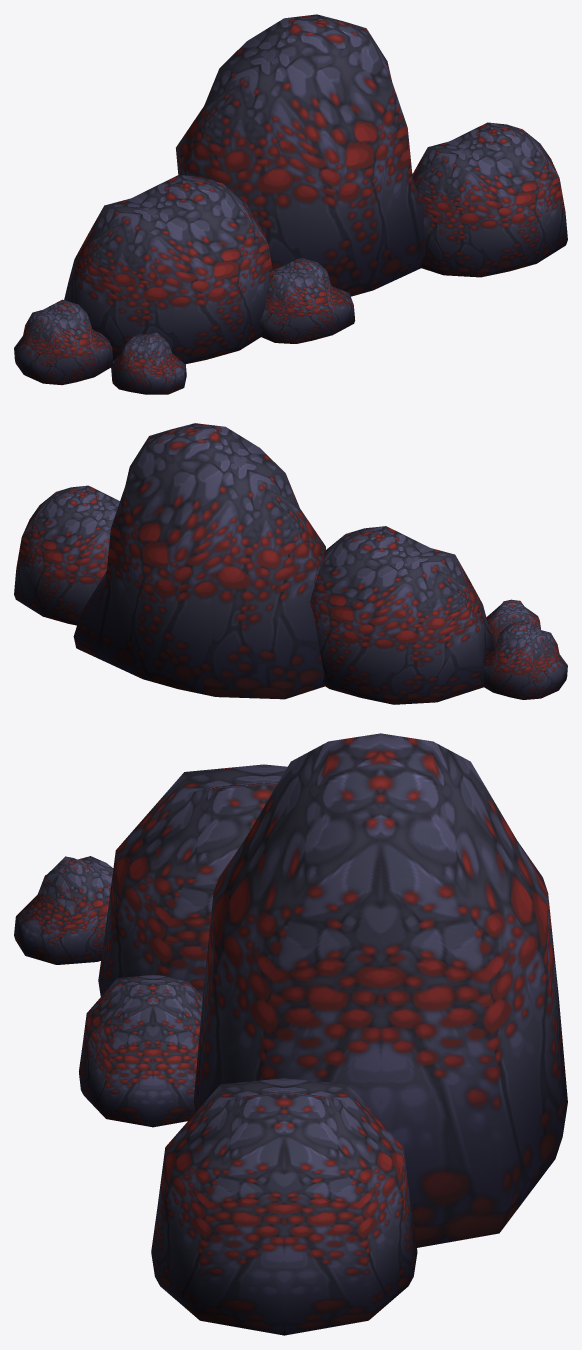
The model's file is Rock_03_Group3.FBX.
The picture shows the model from 3 angles, top to bottom: view 1: azimuth 30°, elevation 25°; view 2: azimuth 150°, elevation 25°; view 3: azimuth 270°, elevation 25°; orthographic projection. The views are drawn at different scales.
Visible parts, largest first — view 1: Rock_03_Group3; view 2: Rock_03_Group3; view 3: Rock_03_Group3.
Boxes of the visible parts, x1,y1,x2,y2 form: Rock_03_Group3: (14, 14, 567, 394); Rock_03_Group3: (14, 423, 567, 704); Rock_03_Group3: (14, 733, 567, 1335).
Size of the model in its own units: 132 by 52.67 by 65.08.
